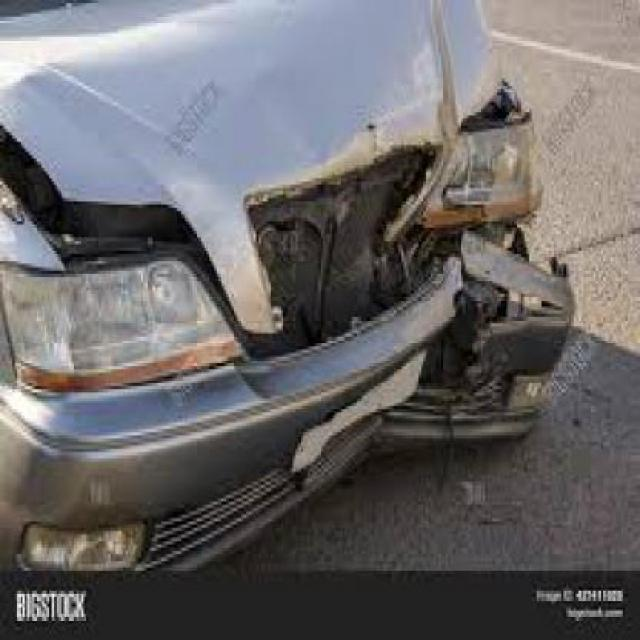damaged-front-bumper: (0, 222, 580, 570)
